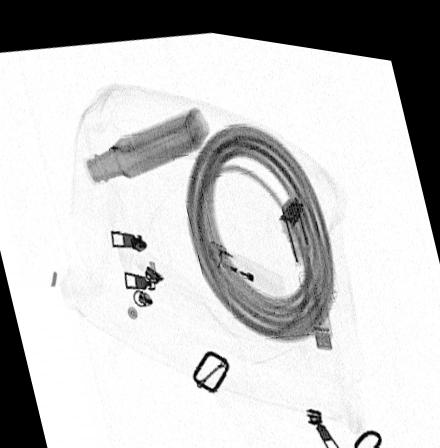Lighter: (205, 233, 284, 289)
